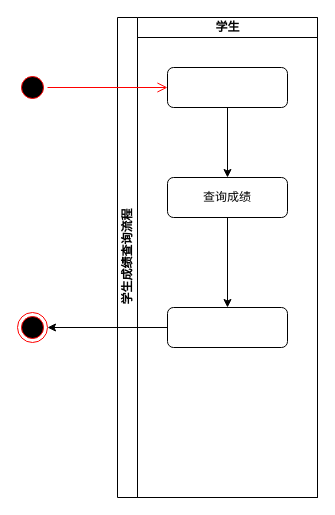
Some shapes in this 335 by 515 pixel diagram are drawn without their labels. Here are the shapes that lost their labels. From the top down, the centre of each, then its label:
At point 227,87: "登入系统".
At point 227,327: "退出系统".
